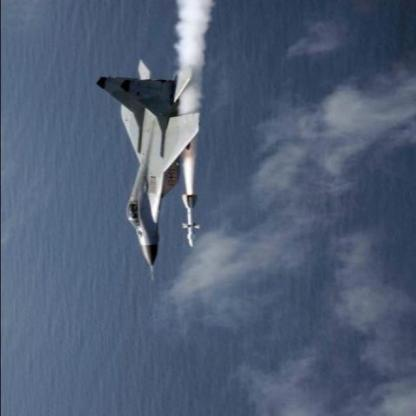MIL_TBM: (180, 193, 201, 246)
